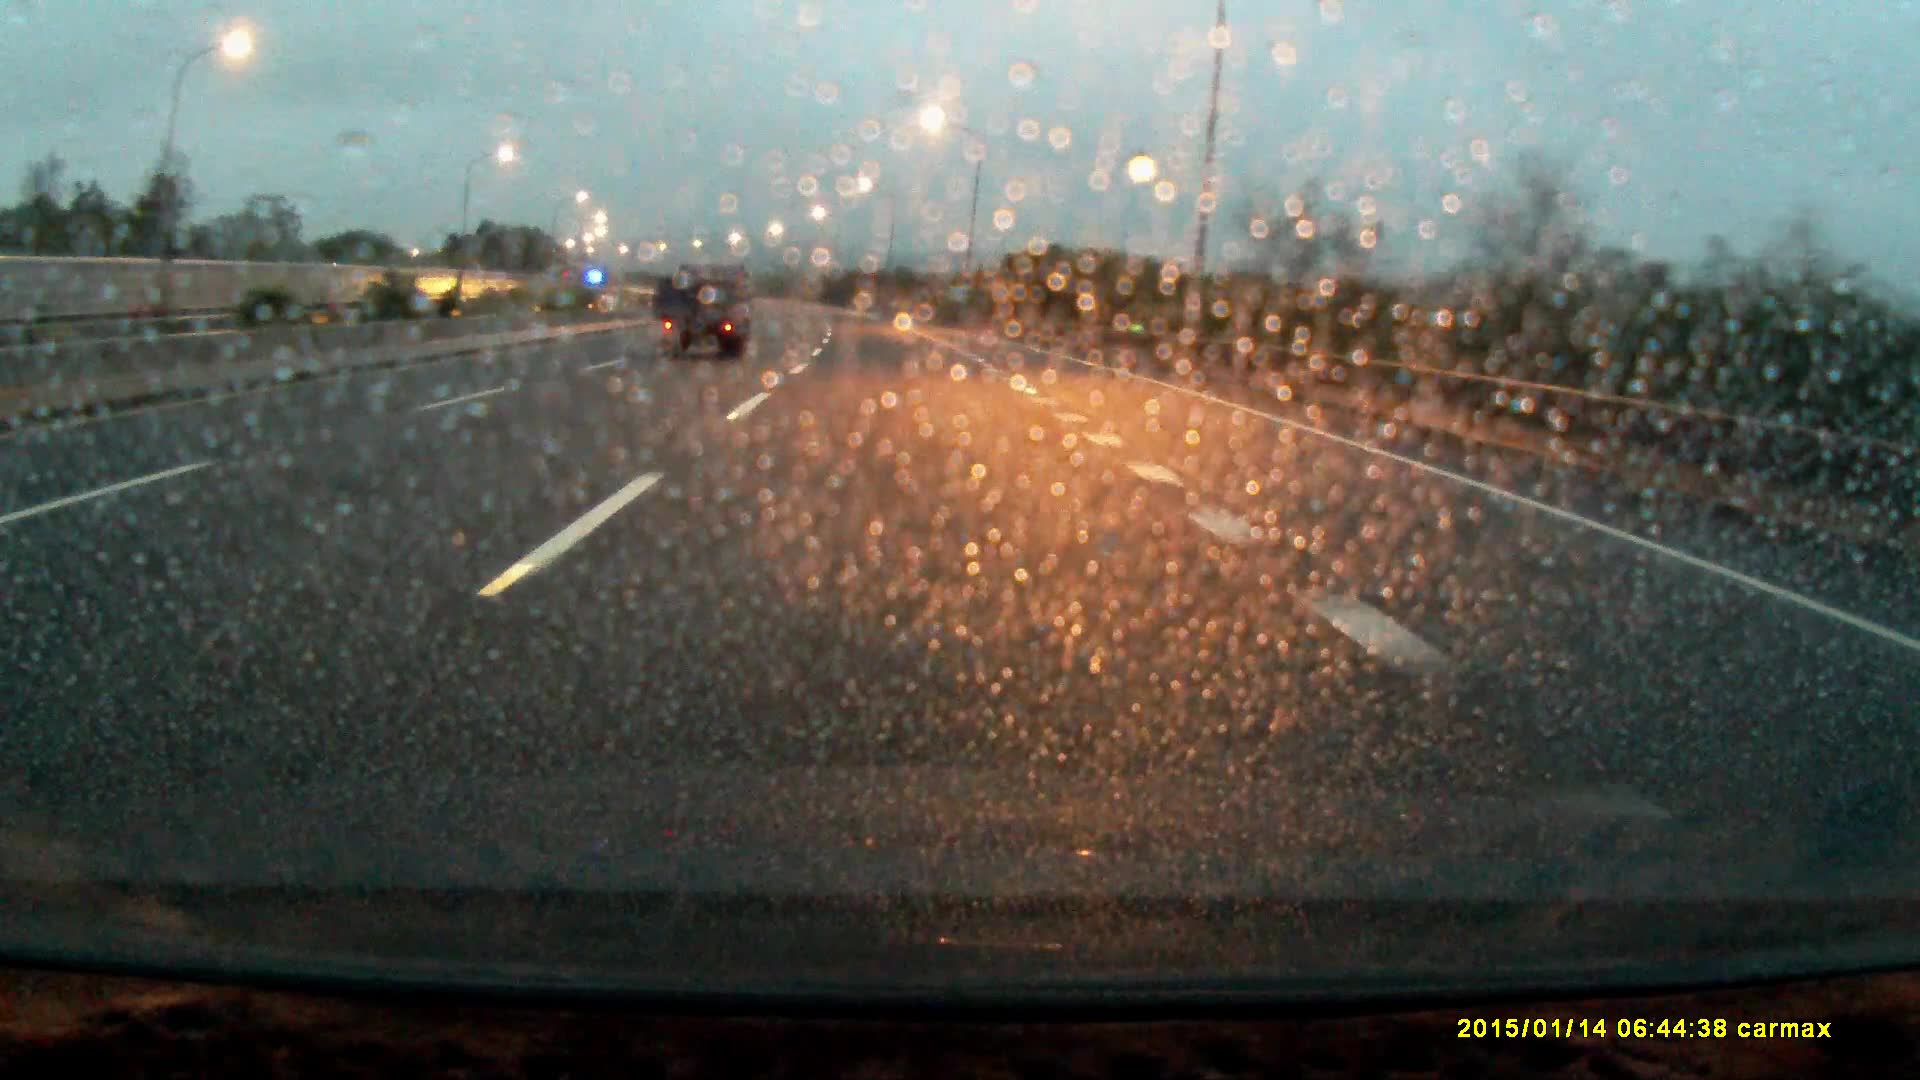vehicle: (661, 261, 754, 363)
